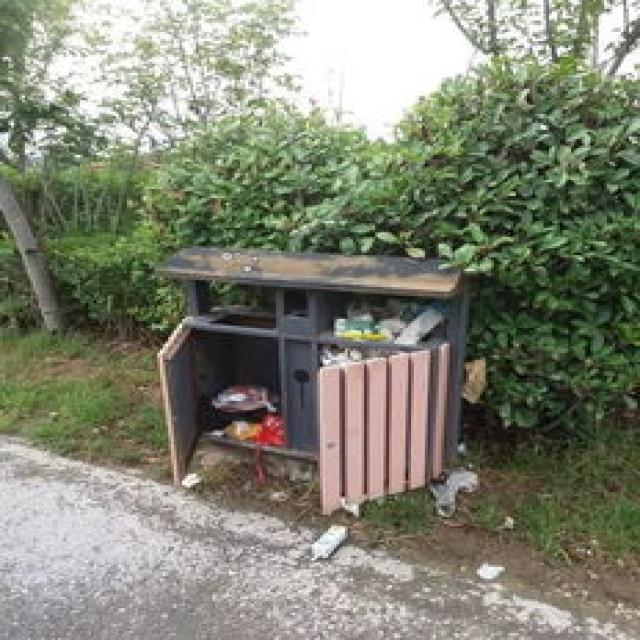overflow: (152, 246, 469, 515)
